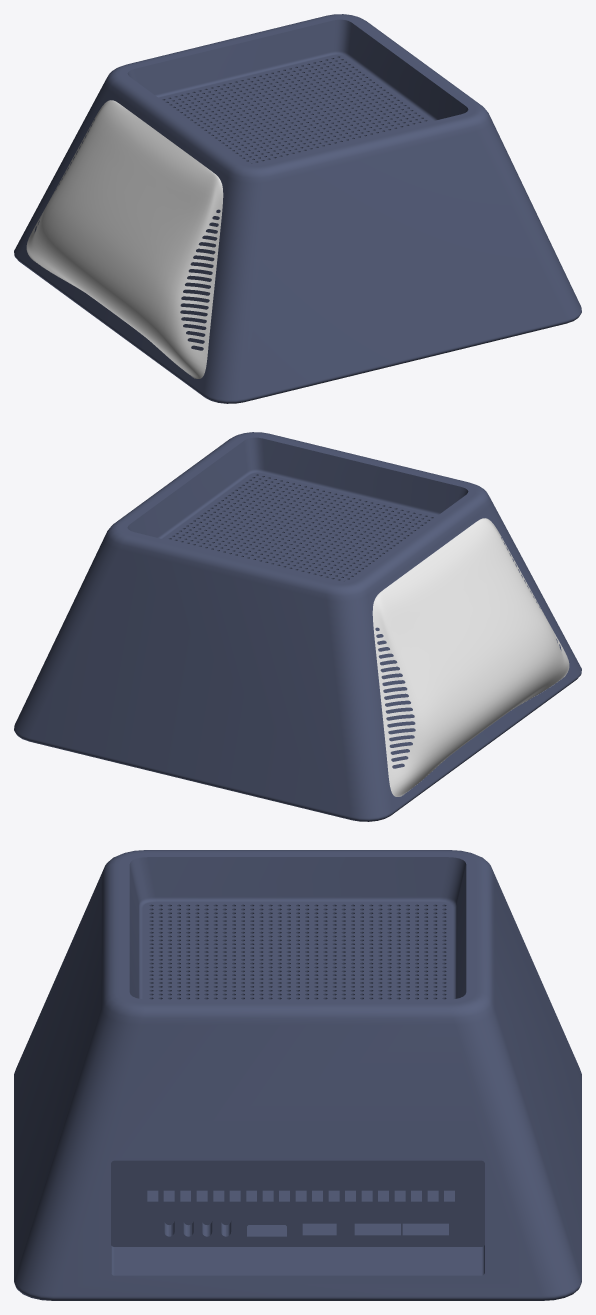
3 renders of one model, top to bottom at view 1: azimuth 30°, elevation 25°; view 2: azimuth 150°, elevation 25°; view 3: azimuth 270°, elevation 25°, orthographic. The views are drawn at different scales.
Visible parts, largest first — view 1: 塔体, nurbs曲面片厚度.002; view 2: 塔体, nurbs曲面片厚度.002; view 3: 塔体.
Boxes of the visible parts, x1,y1,x2,y2 form: 塔体: (14, 14, 581, 403); nurbs曲面片厚度.002: (26, 100, 223, 378); 塔体: (14, 432, 581, 821); nurbs曲面片厚度.002: (372, 518, 569, 796); 塔体: (14, 850, 581, 1300).
Size of the model in its own units: 2.09 by 1.04 by 2.
